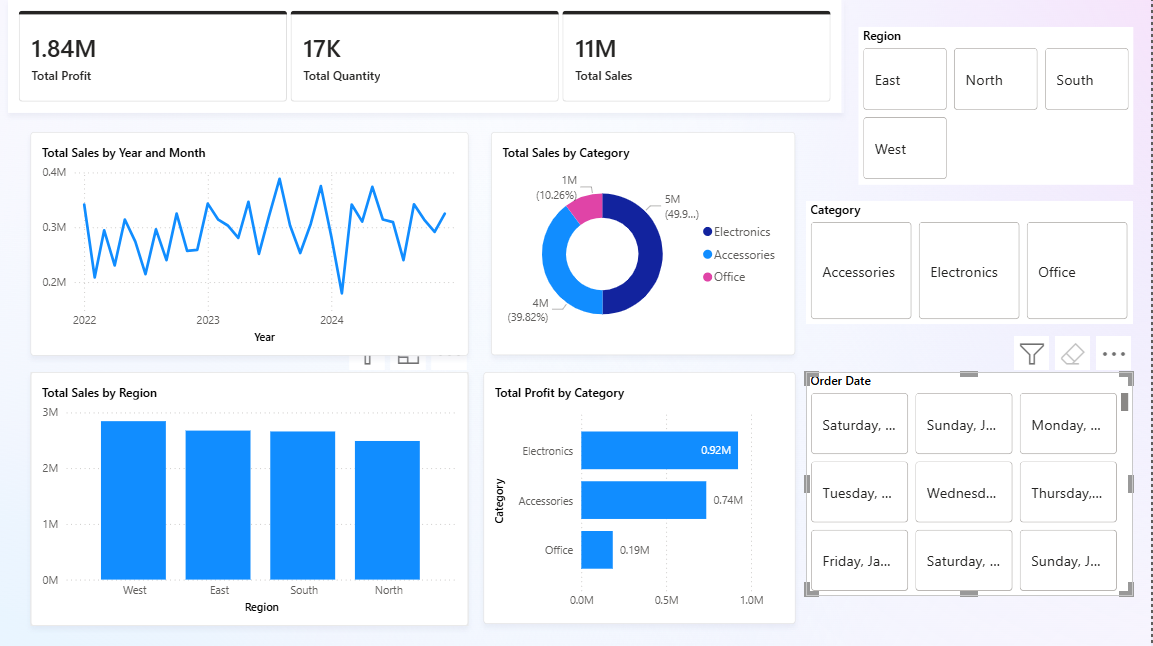

What the dashboard file says about the page in this screenshot:
{"tool":"powerbi","page":{"name":"Page 1","canvas":[1280,720],"ordinal":0},"visuals":[{"type":"cardVisual","fields":{"Data":["Sheet1.Total Profit","Sheet1.Total Quantity","Sheet1.Total Sales"]},"box":[10,0,928.6,125.7],"z":0},{"type":"clusteredColumnChart","fields":{"Category":["Sheet1.Region"],"Y":["Sheet1.Total Sales"]},"box":[35,413.3,486.7,281.7],"z":1000},{"type":"lineChart","fields":{"Y":["Sheet1.Total Sales"],"Category":["Sheet1.Order Date.Variation.Date Hierarchy.Year","Sheet1.Order Date.Variation.Date Hierarchy.Month"]},"box":[35,146.7,486.7,248.3],"z":2000},{"type":"barChart","fields":{"Category":["Sheet1.Category"],"Y":["Sheet1.Total Profit"]},"box":[538.3,413.3,346.7,280],"z":2001},{"type":"advancedSlicerVisual","fields":{"Values":["Sheet1.Region"]},"box":[955,30,305,175],"z":2002},{"type":"advancedSlicerVisual","fields":{"Values":["Sheet1.Category"]},"box":[896.7,223.3,363.3,136.7],"z":2003},{"type":"advancedSlicerVisual","fields":{"Values":["Sheet1.Order Date"]},"box":[896.7,413.3,363.3,248.3],"z":2004},{"type":"donutChart","fields":{"Category":["Sheet1.Category"],"Y":["Sheet1.Total Sales"]},"box":[547,147,338,248],"z":2005}]}

Visuals, with their boxes in screenshot pixels (x1, y1, x2, y2), scaled from the page's 1280x720 canvas onto the 1153x646 screenshot:
cardVisual - Sheet1.Total Profit x Sheet1.Total Quantity: 9,0,845,113
clusteredColumnChart - Sheet1.Region x Sheet1.Total Sales: 32,371,470,624
lineChart - Sheet1.Total Sales x Sheet1.Order Date.Variation.Date Hierarchy.Year: 32,132,470,354
barChart - Sheet1.Category x Sheet1.Total Profit: 485,371,797,622
advancedSlicerVisual - Sheet1.Region: 860,27,1135,184
advancedSlicerVisual - Sheet1.Category: 808,200,1135,323
advancedSlicerVisual - Sheet1.Order Date: 808,371,1135,594
donutChart - Sheet1.Category x Sheet1.Total Sales: 493,132,797,354
